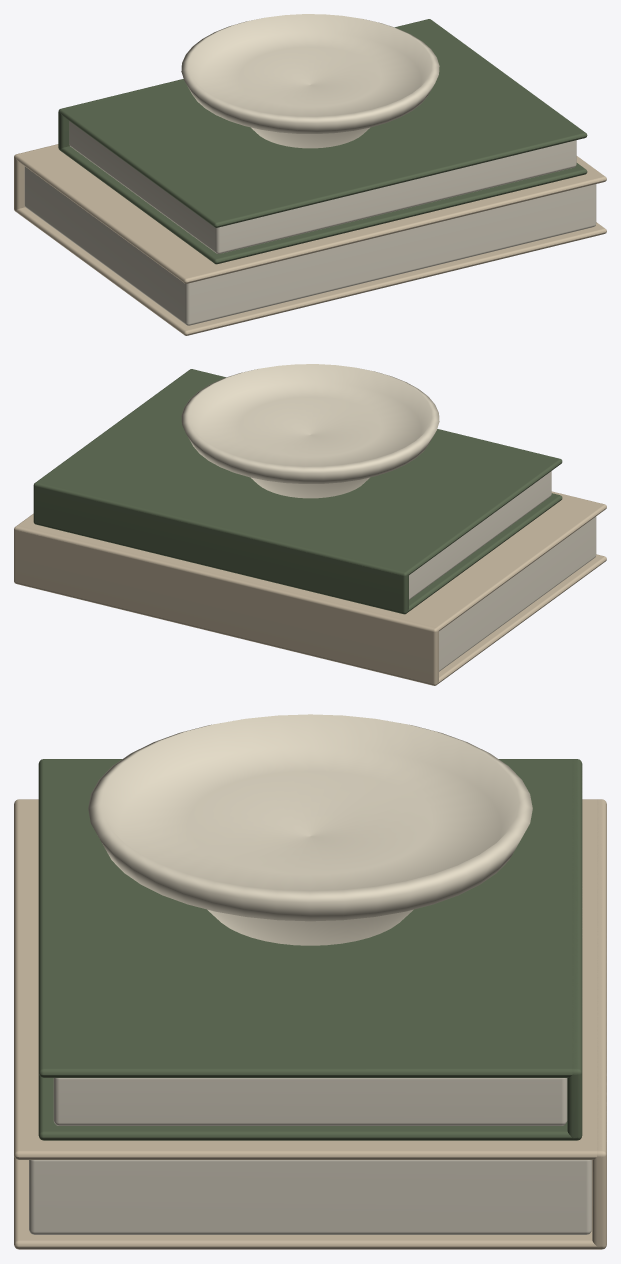
The model's file is bedside-reading.glb.
3 renders of one model, top to bottom at view 1: azimuth 30°, elevation 25°; view 2: azimuth 150°, elevation 25°; view 3: azimuth 270°, elevation 25°, orthographic. The views are drawn at different scales.
Visible parts, largest first — view 1: Mood book olive, Mood book pages, Mood stoneware chalk, Mood linen oat; view 2: Mood book olive, Mood linen oat, Mood stoneware chalk, Mood book pages; view 3: Mood book olive, Mood stoneware chalk, Mood book pages, Mood linen oat.
Boxes of the visible parts, left/top/right/bottom form: Mood book olive: left=58, top=19, right=587, bottom=264; Mood book pages: left=24, top=121, right=596, bottom=325; Mood stoneware chalk: left=181, top=14, right=439, bottom=148; Mood linen oat: left=14, top=144, right=606, bottom=335; Mood book olive: left=33, top=369, right=562, bottom=614; Mood linen oat: left=14, top=491, right=606, bottom=685; Mood stoneware chalk: left=181, top=364, right=439, bottom=498; Mood book pages: left=409, top=471, right=596, bottom=671; Mood book olive: left=38, top=759, right=582, bottom=1140; Mood stoneware chalk: left=88, top=714, right=532, bottom=945; Mood book pages: left=29, top=1078, right=591, bottom=1234; Mood linen oat: left=14, top=799, right=606, bottom=1249.
Size of the model in its own units: 0.17 by 0.0605 by 0.12.
